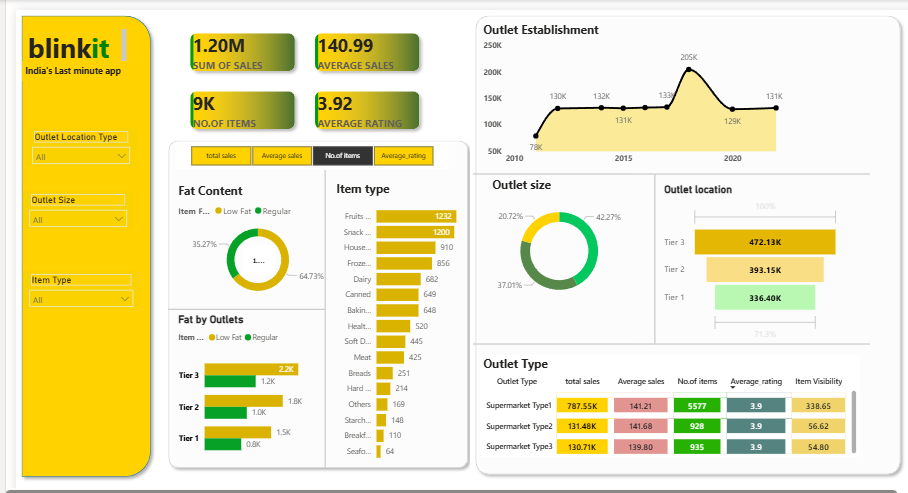

The dashboard page shown, as its layout file describes it:
{"tool":"powerbi","page":{"name":"Page 1","canvas":[2000,800],"ordinal":0},"visuals":[{"type":"shape","box":[0,0,223,750],"z":0},{"type":"textbox","box":[10,1055,205,345],"z":1000},{"type":"textbox","box":[15,25,166,64],"z":2000},{"type":"textbox","box":[10,81,187,32],"z":3000},{"type":"cardVisual","fields":{"Data":["Sum(BlinkIT Grocery Data.Sales)","BlinkIT Grocery Data.Average sales","BlinkIT Grocery Data.No.of items","BlinkIT Grocery Data.Average_rating"]},"box":[247,8,422,210],"z":4000},{"type":"shape","box":[233,198,493,537],"z":5000},{"type":"donutChart","title":" Fat Content","fields":{"Y":["BlinkIT Grocery Data.No.of items"],"Category":["BlinkIT Grocery Data.Item Fat Content"]},"box":[253,273,263,193],"z":6000},{"type":"slicer","fields":{"Values":["Parameter.Parameter"]},"box":[253,210,434,44],"z":7000},{"type":"textbox","box":[0,760,205,100],"z":8000},{"type":"cardVisual","fields":{"Data":["Sum(Table1.Sales)"]},"box":[358,373,54,47],"z":9000},{"type":"clusteredBarChart","title":"Fat by Outlets","fields":{"Y":["BlinkIT Grocery Data.No.of items"],"Series":["BlinkIT Grocery Data.Item Fat Content"],"Category":["BlinkIT Grocery Data.Outlet Location Type"]},"box":[253,481,226,245],"z":10000},{"type":"shape","box":[241,457,249,36],"z":11000},{"type":"shape","box":[458,254,64,472],"z":12000},{"type":"barChart","title":"Item type","fields":{"Y":["BlinkIT Grocery Data.No.of items"],"Category":["BlinkIT Grocery Data.Item Type"]},"box":[503,270,223,456],"z":13000},{"type":"shape","box":[721,0,646,746],"z":14000},{"type":"lineChart","title":"Outlet Establishment ","fields":{"Category":["BlinkIT Grocery Data.Outlet Establishment Year"],"Y":["BlinkIT Grocery Data.total sales"]},"box":[737,18,489,236],"z":15000},{"type":"donutChart","title":"Outlet size","fields":{"Category":["BlinkIT Grocery Data.Outlet Size"],"Y":["BlinkIT Grocery Data.total sales"]},"box":[750,263,223,213],"z":16000},{"type":"shape","box":[982,261,63,270],"z":17000},{"type":"funnel","title":"Outlet location ","fields":{"Category":["BlinkIT Grocery Data.Outlet Location Type"],"Y":["BlinkIT Grocery Data.total sales"]},"box":[1024,275,287,256],"z":18000},{"type":"shape","box":[726,513,630,35],"z":19000},{"type":"pivotTable","title":"Outlet Type","fields":{"Values":["BlinkIT Grocery Data.total sales","BlinkIT Grocery Data.Average sales","BlinkIT Grocery Data.No.of items","BlinkIT Grocery Data.Average_rating","Sum(BlinkIT Grocery Data.Item Visibility)"],"Rows":["BlinkIT Grocery Data.Outlet Type"]},"box":[737,548,603,162],"z":20000},{"type":"slicer","fields":{"Values":["BlinkIT Grocery Data.Outlet Location Type"]},"box":[16,187,175,60],"z":20001},{"type":"slicer","fields":{"Values":["BlinkIT Grocery Data.Outlet Size"]},"box":[11,287,175,60],"z":20002},{"type":"slicer","fields":{"Values":["BlinkIT Grocery Data.Item Type"]},"box":[11,415,185,60],"z":20003},{"type":"shape","box":[726,243,630,35],"z":20004}]}

Visuals, with their boxes on the page's 2000x800 design canvas (x1, y1, x2, y2). These are canvas units, not pixel positions in the 908x493 screenshot, which may show the page scaled, cropped or inside an application window:
shape: (0,0,223,750)
textbox: (10,1055,215,1400)
textbox: (15,25,181,89)
textbox: (10,81,197,113)
cardVisual - Sum(BlinkIT Grocery Data.Sales) x BlinkIT Grocery Data.Average sales: (247,8,669,218)
shape: (233,198,726,735)
" Fat Content" donutChart: (253,273,516,466)
slicer - Parameter.Parameter: (253,210,687,254)
textbox: (0,760,205,860)
cardVisual - Sum(Table1.Sales): (358,373,412,420)
"Fat by Outlets" clusteredBarChart: (253,481,479,726)
shape: (241,457,490,493)
shape: (458,254,522,726)
"Item type" barChart: (503,270,726,726)
shape: (721,0,1367,746)
"Outlet Establishment " lineChart: (737,18,1226,254)
"Outlet size" donutChart: (750,263,973,476)
shape: (982,261,1045,531)
"Outlet location " funnel: (1024,275,1311,531)
shape: (726,513,1356,548)
"Outlet Type" pivotTable: (737,548,1340,710)
slicer - BlinkIT Grocery Data.Outlet Location Type: (16,187,191,247)
slicer - BlinkIT Grocery Data.Outlet Size: (11,287,186,347)
slicer - BlinkIT Grocery Data.Item Type: (11,415,196,475)
shape: (726,243,1356,278)
